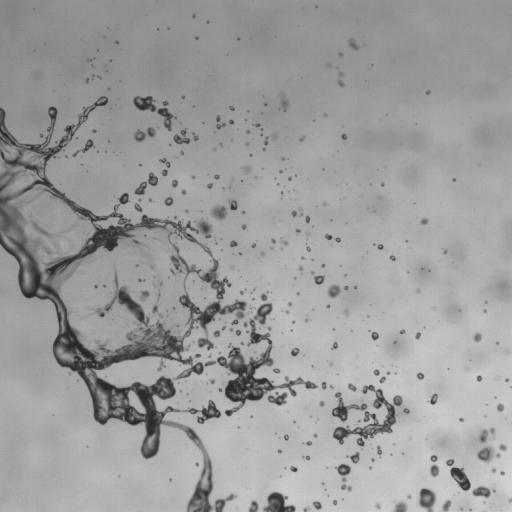droplet: (331, 384, 402, 447), (262, 491, 295, 511), (418, 487, 436, 511), (477, 445, 500, 463), (173, 129, 189, 144), (210, 205, 226, 220), (479, 428, 495, 442), (327, 284, 340, 298), (392, 500, 407, 511), (440, 499, 451, 511), (348, 452, 359, 463), (349, 38, 359, 49), (139, 290, 149, 301), (248, 500, 258, 511), (216, 116, 225, 128), (228, 198, 237, 210), (314, 275, 324, 284), (472, 332, 481, 342), (321, 381, 332, 389), (429, 393, 437, 404), (164, 197, 173, 205), (134, 202, 142, 211), (291, 347, 299, 356), (312, 501, 321, 509), (243, 165, 251, 173), (348, 383, 356, 391), (496, 403, 504, 411), (371, 331, 378, 340), (420, 218, 427, 225), (213, 330, 220, 337), (331, 342, 338, 349), (499, 444, 506, 451), (280, 239, 287, 245), (230, 240, 237, 246), (379, 376, 385, 383), (290, 466, 297, 472), (375, 244, 383, 249), (271, 133, 277, 139), (341, 133, 347, 139), (161, 169, 167, 175), (389, 255, 395, 261), (343, 309, 349, 315), (373, 369, 379, 375), (417, 373, 423, 379), (476, 375, 482, 381), (193, 133, 198, 140), (172, 180, 177, 187), (325, 234, 332, 239), (415, 332, 420, 339), (273, 368, 280, 373), (375, 503, 380, 509), (305, 215, 309, 222), (299, 136, 304, 141), (214, 174, 219, 179), (207, 183, 212, 188), (181, 189, 186, 194), (292, 211, 297, 216), (241, 224, 246, 229), (335, 237, 340, 242), (319, 401, 324, 406), (404, 408, 409, 413), (299, 266, 303, 272), (284, 434, 288, 440), (305, 441, 311, 445), (303, 507, 309, 511), (254, 123, 259, 127), (295, 229, 300, 233), (306, 246, 310, 251), (416, 288, 420, 293), (287, 302, 292, 306), (171, 306, 175, 311), (400, 329, 405, 333), (209, 379, 214, 383), (333, 500, 337, 505), (303, 456, 309, 459), (85, 78, 89, 82), (426, 90, 430, 94), (229, 106, 233, 110), (229, 120, 233, 124), (271, 239, 275, 243), (240, 290, 244, 294), (326, 304, 330, 308), (284, 310, 288, 314), (313, 433, 317, 437), (491, 468, 495, 472), (500, 471, 504, 475), (322, 202, 327, 205), (54, 242, 57, 247), (339, 52, 342, 56), (92, 129, 96, 132), (148, 199, 152, 202), (154, 237, 158, 240), (252, 243, 255, 247), (443, 250, 447, 253), (344, 286, 348, 289), (221, 326, 225, 329), (459, 418, 463, 421), (278, 449, 281, 453), (407, 495, 411, 498), (508, 498, 511, 502), (138, 279, 143, 281), (192, 14, 195, 17), (246, 130, 249, 133), (40, 133, 43, 136), (180, 151, 183, 154), (279, 170, 282, 173), (288, 177, 291, 180), (381, 183, 384, 186), (306, 232, 309, 235), (322, 264, 325, 267), (94, 285, 97, 288), (505, 378, 508, 381), (371, 458, 374, 461), (305, 319, 309, 321), (240, 342, 244, 344), (196, 36, 198, 39), (246, 142, 248, 145), (192, 175, 194, 178), (242, 211, 245, 213), (302, 256, 304, 259), (311, 271, 313, 274), (103, 284, 105, 287), (483, 310, 486, 312), (496, 342, 499, 344), (387, 371, 389, 374), (195, 463, 198, 465), (98, 76, 100, 78), (182, 96, 184, 98), (324, 114, 326, 116), (220, 143, 222, 145), (263, 148, 265, 150), (281, 192, 283, 194), (185, 210, 187, 212), (174, 216, 176, 218), (72, 225, 74, 227), (261, 253, 263, 255), (354, 286, 356, 288), (297, 293, 299, 295), (87, 306, 89, 308), (329, 363, 331, 365)
ligament: (0, 96, 316, 511), (133, 96, 174, 130), (183, 400, 220, 423), (446, 459, 470, 490), (134, 172, 157, 195), (30, 220, 55, 239), (335, 463, 351, 491), (72, 139, 93, 156), (134, 127, 155, 141), (472, 486, 495, 498), (430, 455, 439, 477), (280, 93, 288, 110), (159, 158, 170, 167), (337, 72, 344, 86), (229, 328, 240, 335), (377, 446, 381, 456), (135, 262, 141, 267), (264, 137, 268, 144), (299, 208, 302, 215)
